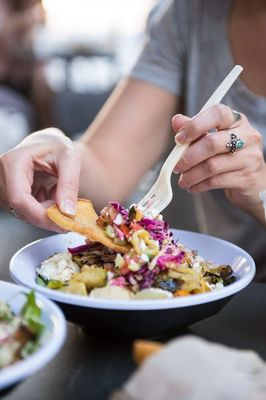burger: (132, 95, 235, 222)
sushi: (6, 201, 257, 339), (0, 280, 68, 393)
